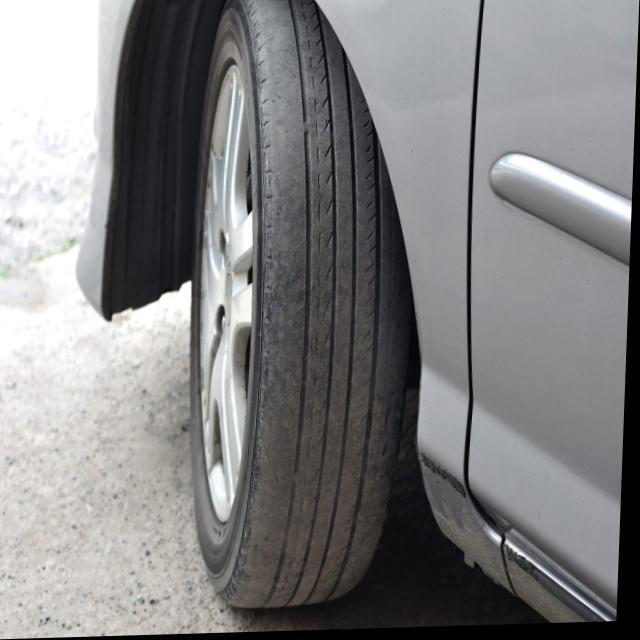Flat spots: (268, 137, 379, 541)
